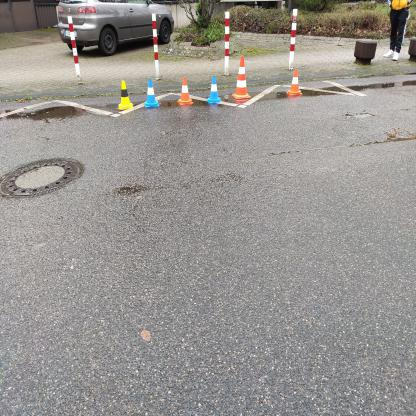Cones_big: (230, 52, 258, 108)
Cones_small_blue: (138, 74, 166, 112), (204, 71, 224, 106)
Cones_small_orange: (171, 71, 197, 111), (284, 65, 305, 100)
Cones_small_yellow: (111, 73, 136, 116)
